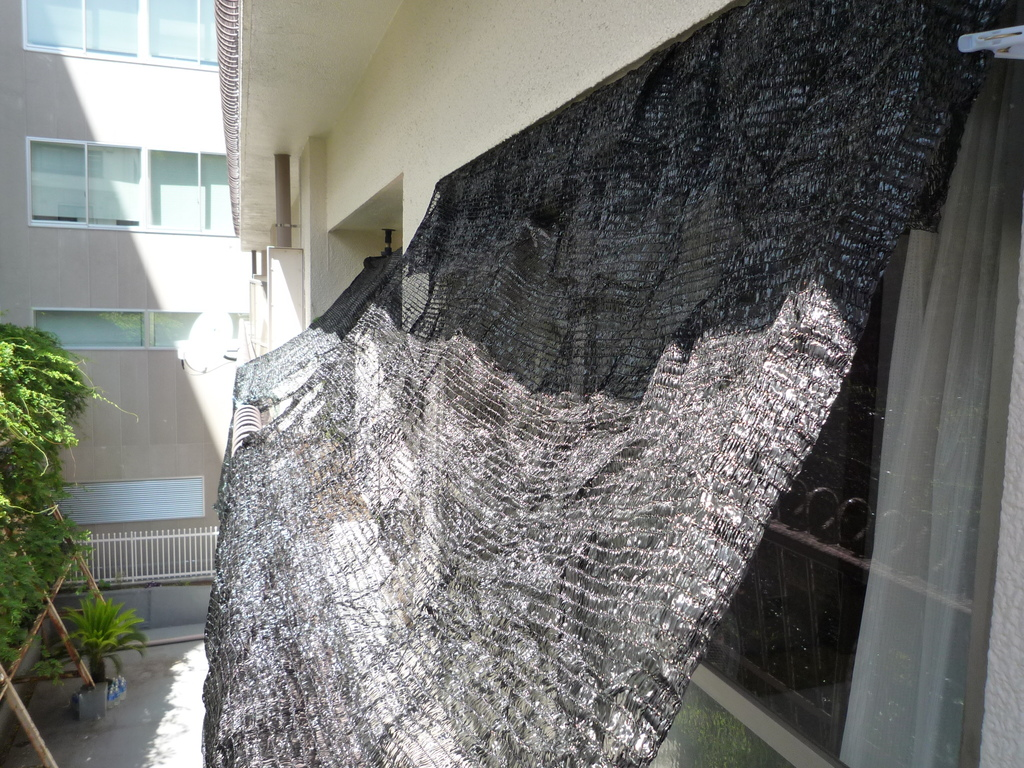Tree: (1, 311, 127, 651)
